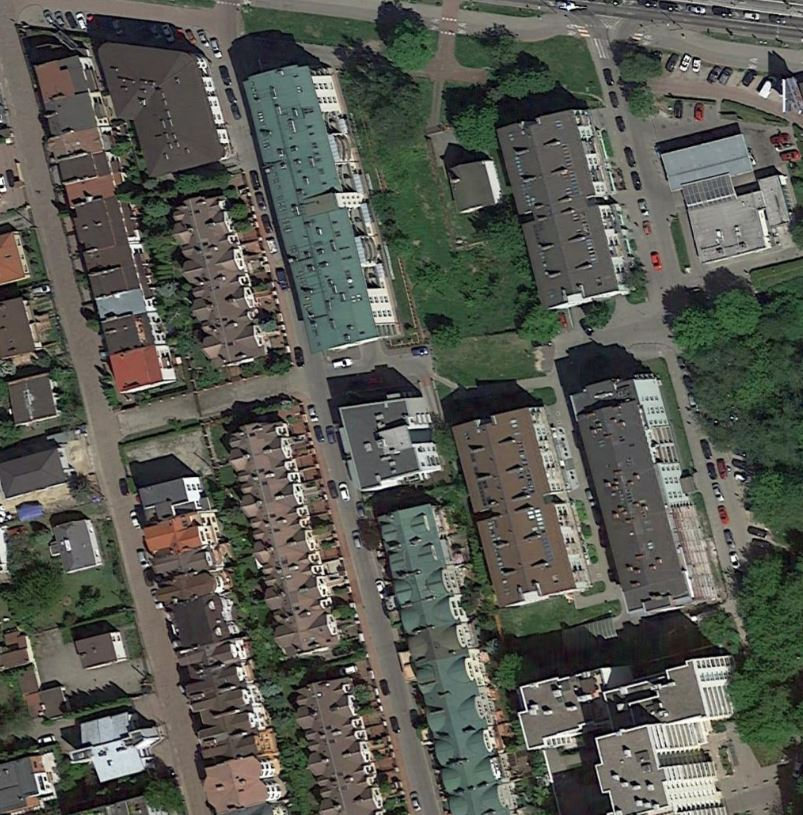block of flats: (234, 63, 408, 355), (373, 506, 518, 813), (565, 367, 738, 623), (506, 651, 756, 815), (490, 102, 653, 311), (446, 403, 595, 619), (91, 32, 245, 182), (328, 390, 447, 497)
family house: (68, 704, 167, 786), (1, 442, 74, 503), (44, 515, 111, 577), (1, 747, 61, 815), (446, 153, 503, 215), (3, 368, 62, 427), (70, 625, 129, 676), (1, 295, 44, 364), (1, 224, 34, 288)
shopping_center: (652, 123, 795, 267)
terrace house: (29, 51, 193, 395), (133, 470, 292, 815), (222, 418, 346, 663), (166, 192, 271, 367), (292, 676, 387, 815)
